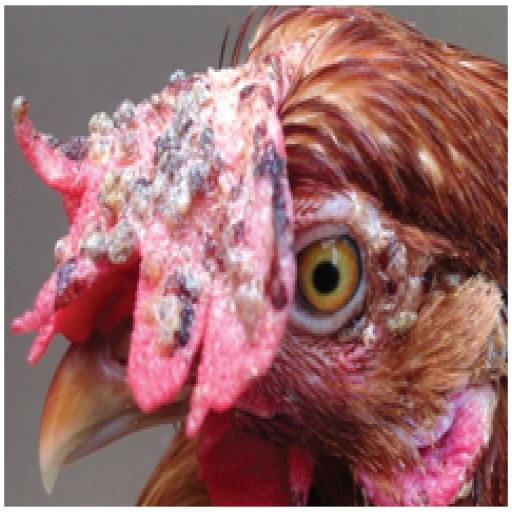disease: (0, 57, 285, 404), (364, 204, 467, 352)
